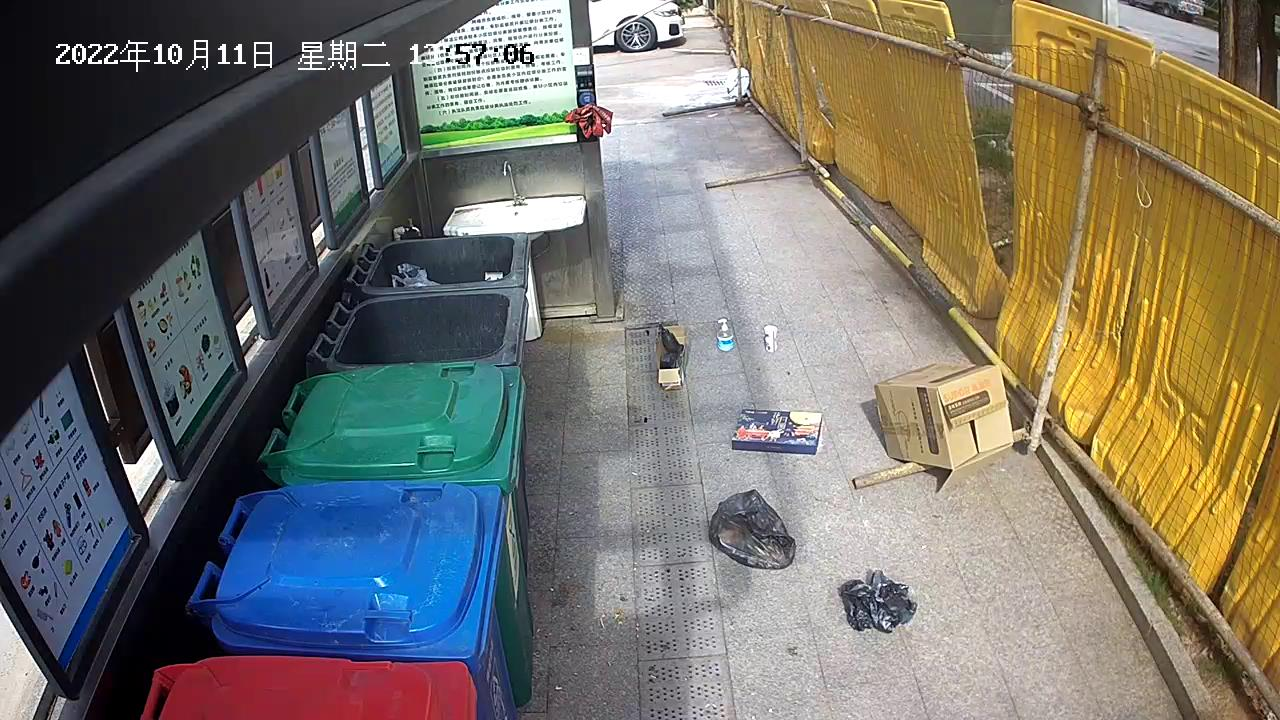garbage-bag: (705, 486, 802, 577), (837, 564, 925, 637)
lvzhipin: (759, 321, 785, 356)
suliaozhipin: (711, 314, 741, 355)
zhizhipin: (866, 355, 1019, 496), (728, 404, 829, 460)
